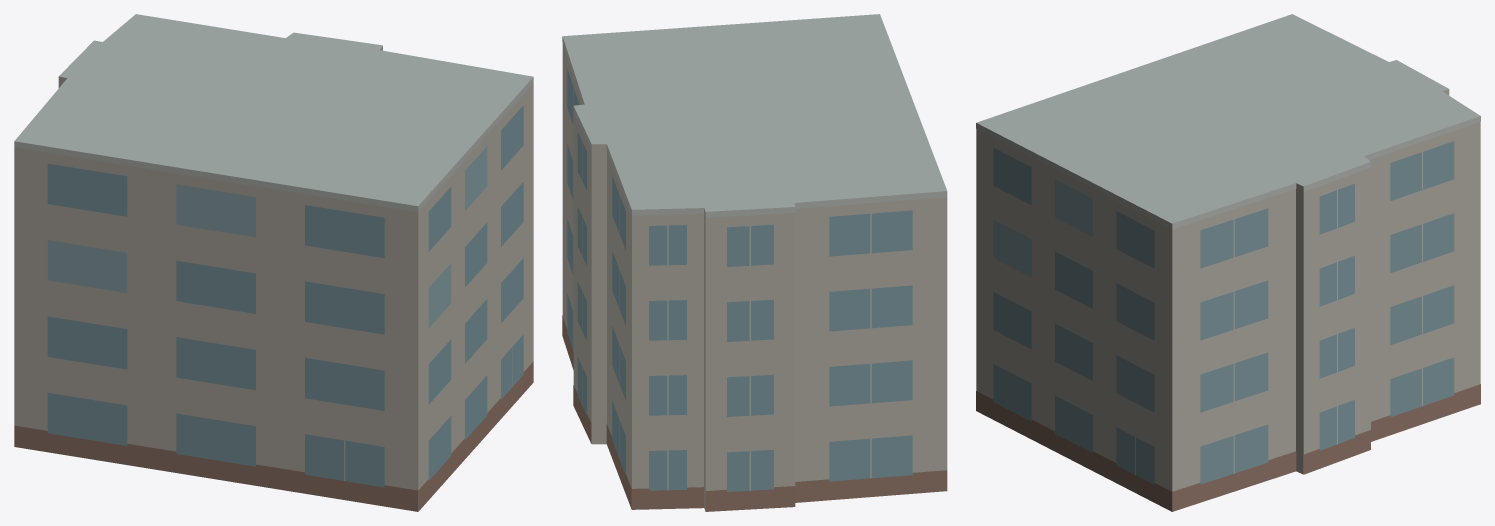
File: survey-upis-32844887.glb
The picture shows the model from 3 angles, left to right: view 1: azimuth 30°, elevation 25°; view 2: azimuth 150°, elevation 25°; view 3: azimuth 270°, elevation 25°; orthographic projection. The views are drawn at different scales.
Parts seen in each view (by area): view 1: survey-upis-32844887.tmp; view 2: survey-upis-32844887.tmp; view 3: survey-upis-32844887.tmp.
Boxes of the visible parts, <box> form: survey-upis-32844887.tmp: <box>14,14,533,511</box>; survey-upis-32844887.tmp: <box>562,14,947,511</box>; survey-upis-32844887.tmp: <box>976,14,1480,511</box>.
Size of the model in its own units: 19.05 by 12.2 by 19.37.
